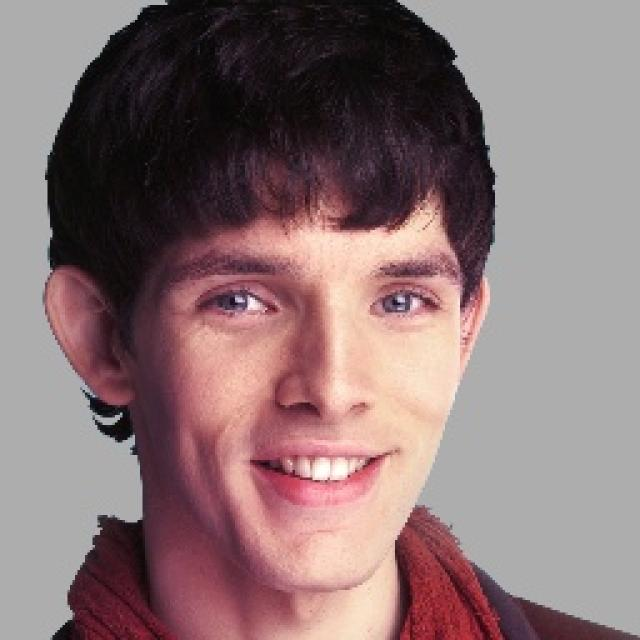earlobe: (87, 378, 138, 408)
eye: (200, 290, 277, 320), (370, 290, 434, 318)
nose: (279, 398, 372, 437)
wholeear: (44, 268, 140, 411), (458, 277, 491, 375)
